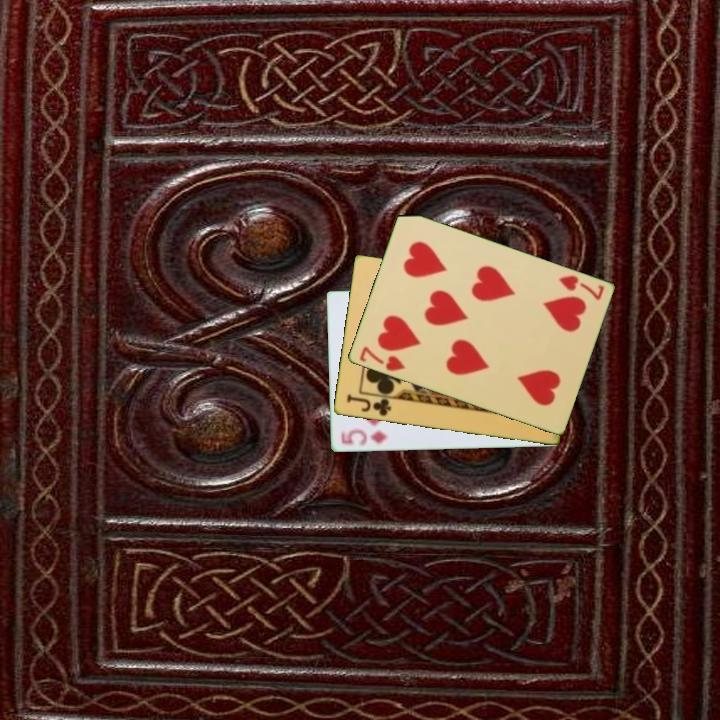5d: (337, 426, 389, 449)
7h: (355, 343, 408, 375), (555, 272, 607, 303)
Jc: (343, 391, 394, 419)
